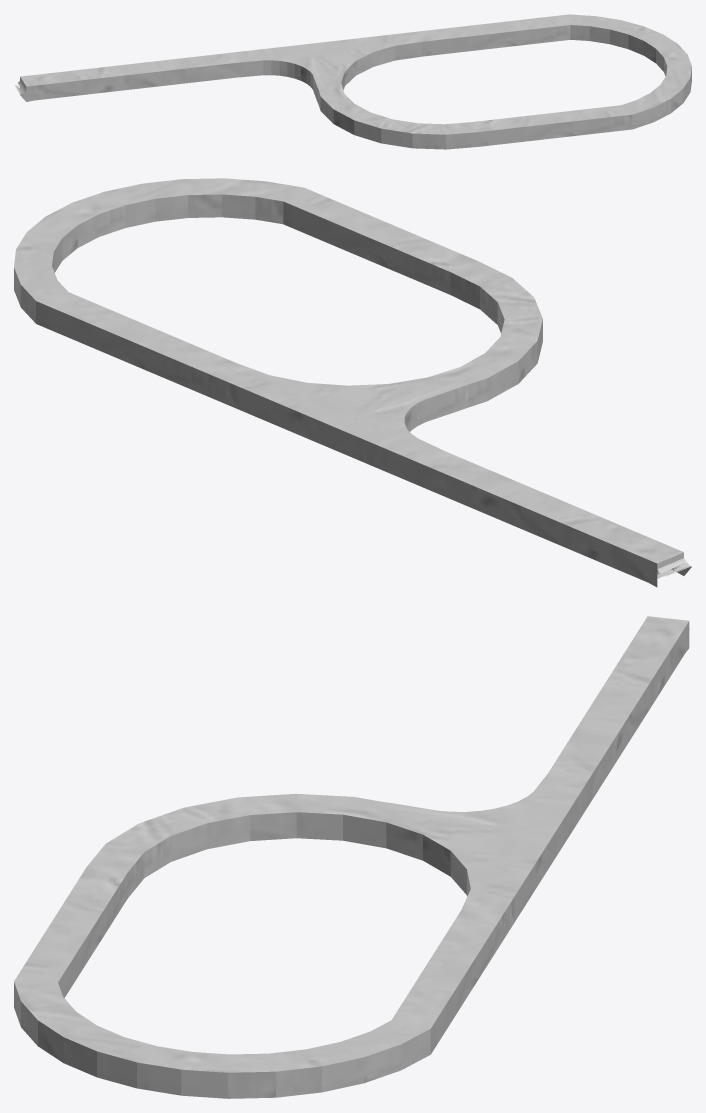
3 views of the same model, one above another, from view 1: azimuth 30°, elevation 25°; view 2: azimuth 150°, elevation 25°; view 3: azimuth 270°, elevation 25° (orthographic). The views are drawn at different scales.
Bounding box in the file's own units: 1.05 × 0.029 × 0.6499.
